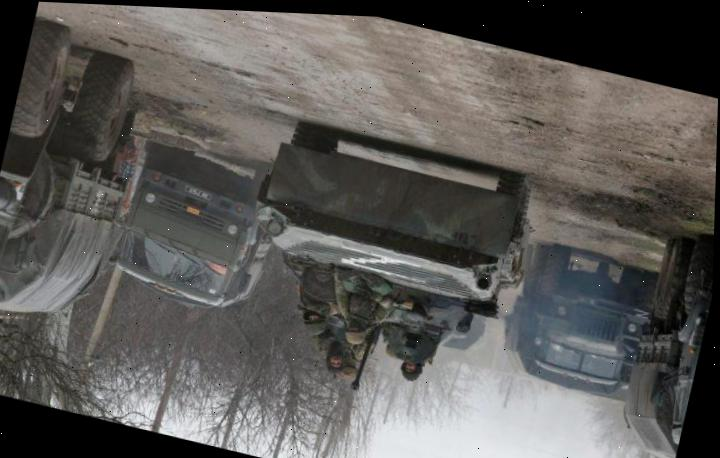tank: (246, 116, 525, 388)
truck: (0, 22, 147, 337), (106, 133, 282, 320), (500, 236, 656, 390), (611, 226, 714, 458)
